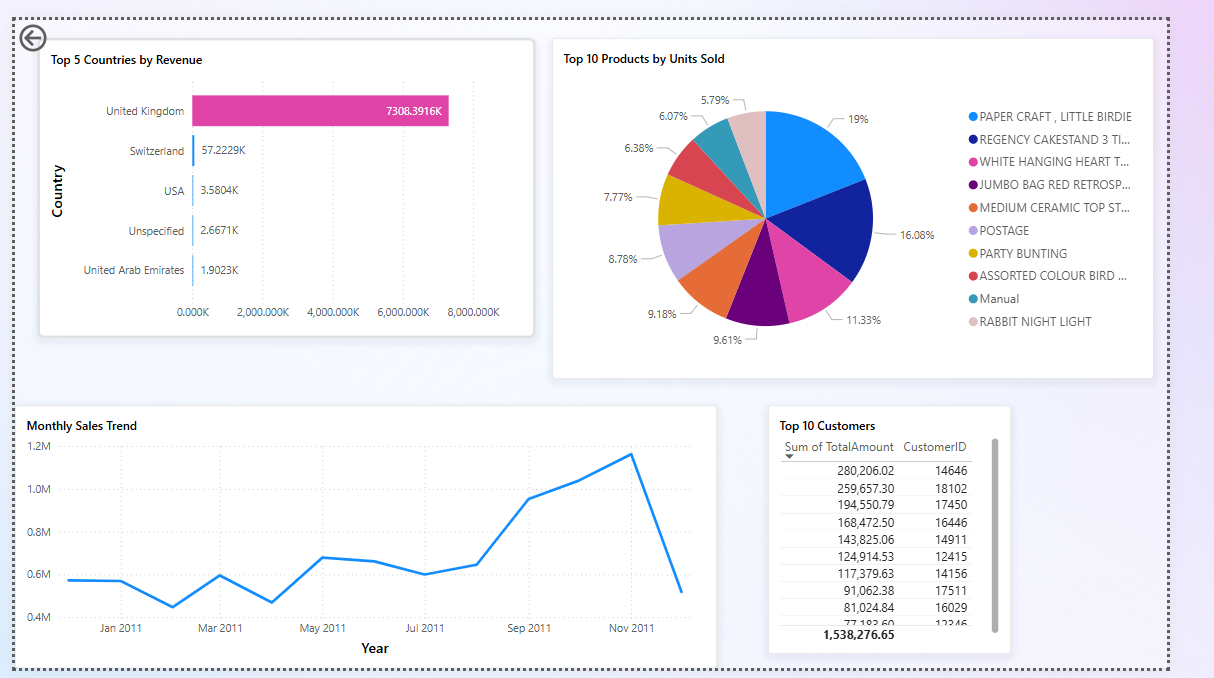

What the dashboard file says about the page in this screenshot:
{"tool":"powerbi","page":{"name":"Online Retail","canvas":[1280,720],"ordinal":0},"visuals":[{"type":"clusteredBarChart","title":"Top 5 Countries by Revenue","fields":{"Category":["DimCountry.Country"],"Y":["Sum(FactSales.TotalAmount)"]},"box":[25,20,553.3,333.3],"z":0},{"type":"lineChart","title":"Monthly Sales Trend","fields":{"Category":["DimDate.FullDate.Variation.Date Hierarchy.Year","DimDate.FullDate.Variation.Date Hierarchy.Month"],"Y":["Sum(FactSales.TotalAmount)"]},"box":[0,428.3,780,291.7],"z":1000},{"type":"tableEx","title":" Top 10 Customers","fields":{"Values":["Sum(FactSales.TotalAmount)","DimCustomer.CustomerID"]},"box":[837.1,428.6,270,275.7],"z":2000},{"type":"actionButton","box":[0,0,100,40],"z":3000},{"type":"pieChart","title":"Top 10 Products by Units Sold","fields":{"Category":["DimProduct.Description"],"Y":["Sum(FactSales.TotalAmount)"]},"box":[596.7,20,668.3,378.3],"z":4000}]}

Visuals, with their boxes in screenshot pixels (x1, y1, x2, y2), scaled from the page's 1280x720 canvas onto the 1214x678 screenshot:
"Top 5 Countries by Revenue" clusteredBarChart: bbox=(24, 19, 548, 333)
"Monthly Sales Trend" lineChart: bbox=(0, 403, 740, 677)
" Top 10 Customers" tableEx: bbox=(794, 404, 1050, 663)
actionButton: bbox=(0, 0, 95, 38)
"Top 10 Products by Units Sold" pieChart: bbox=(566, 19, 1200, 375)
